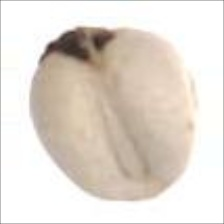L5: (86, 64, 164, 193), (34, 24, 123, 71), (119, 167, 181, 201)
L6: (29, 23, 199, 203)
